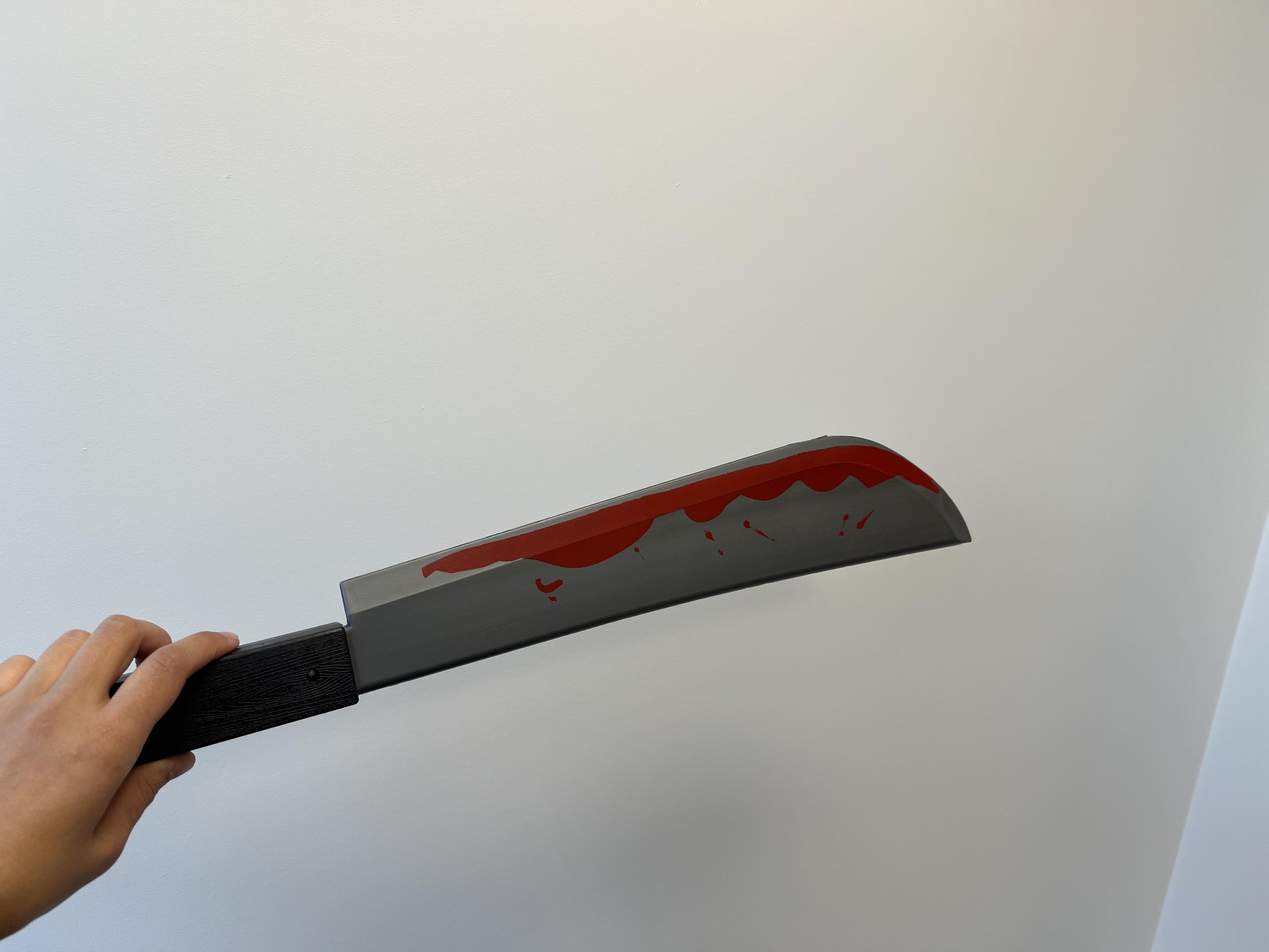Knife: (244, 432, 973, 728), (0, 611, 225, 940), (0, 611, 240, 913)
